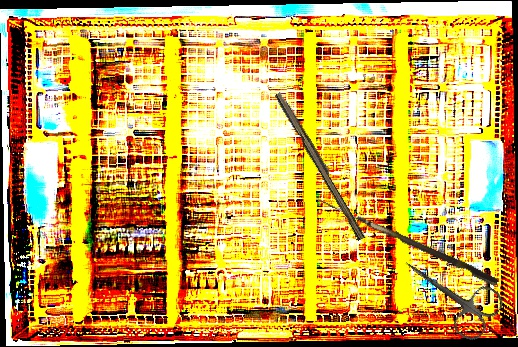Hook Surgical: (311, 197, 501, 287)
Iris Scissors: (389, 238, 508, 346)
Scalpel Handle: (272, 90, 370, 241)
